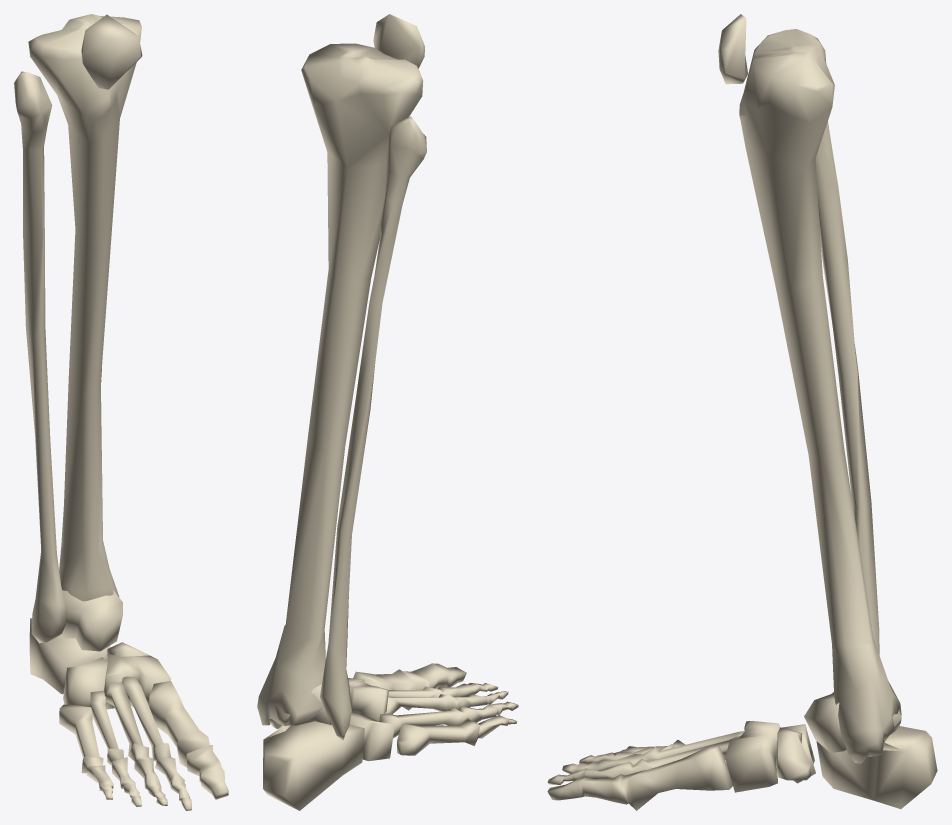
File: rightshin.obj
3 views of the same model, side by side, from view 1: azimuth 30°, elevation 25°; view 2: azimuth 150°, elevation 25°; view 3: azimuth 270°, elevation 25° (orthographic). The views are drawn at different scales.
Parts seen in each view (by area): view 1: Right_Shin; view 2: Right_Shin; view 3: Right_Shin.
Boxes of the visible parts, x1,y1,x2,y2 form: Right_Shin: [14, 14, 228, 810]; Right_Shin: [257, 14, 518, 810]; Right_Shin: [547, 14, 937, 810].
Bounding box in the file's own units: 3.87 × 20.28 × 9.3.
